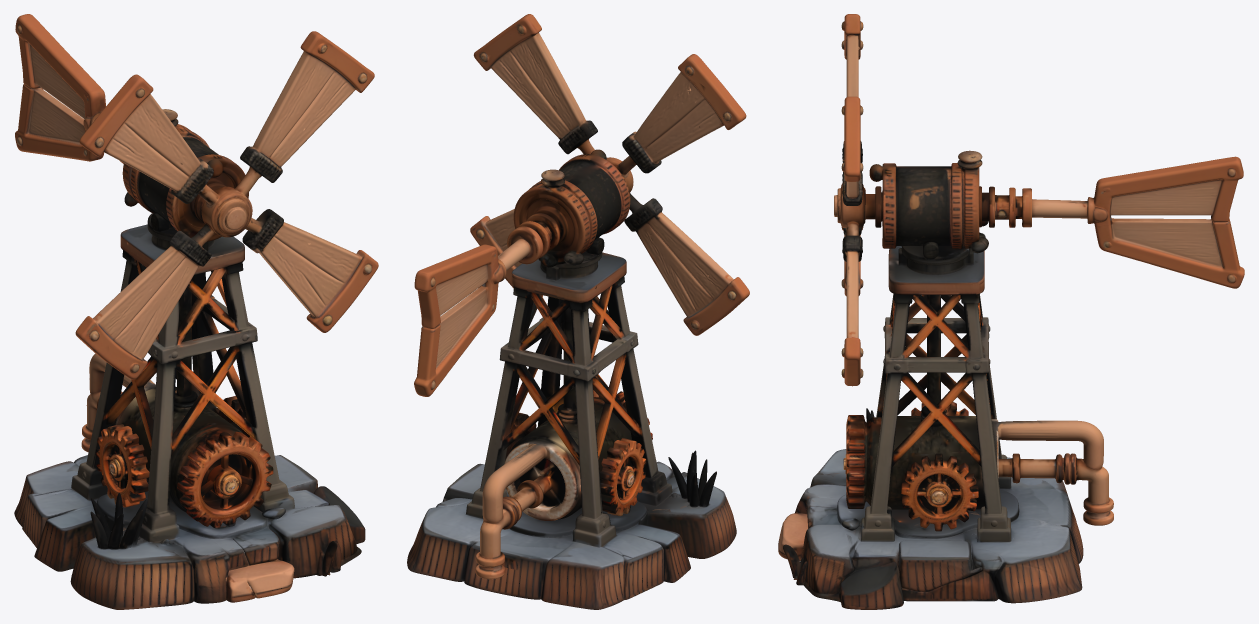
Rendered from wind_turbine.glb.
3 renders of one model, left to right at view 1: azimuth 30°, elevation 25°; view 2: azimuth 150°, elevation 25°; view 3: azimuth 270°, elevation 25°, orthographic. The views are drawn at different scales.
Visible parts, largest first — view 1: Mesh_0; view 2: Mesh_0; view 3: Mesh_0.
Part boxes in pixels (bbox=[...]): Mesh_0: bbox=[14, 14, 378, 609]; Mesh_0: bbox=[407, 14, 749, 609]; Mesh_0: bbox=[778, 14, 1244, 609].
Bounding box in the file's own units: 0.5512 × 0.9112 × 0.785.
1 material, 1 textured.
